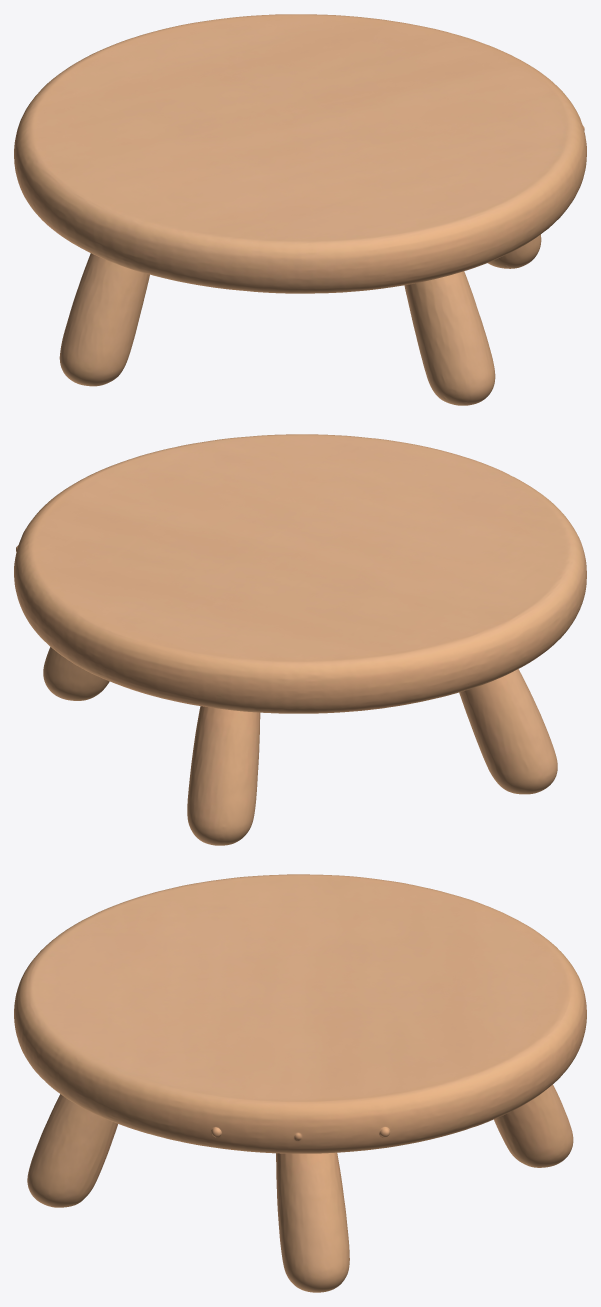
The model's file is SmallTable.fbx.
3 views of the same model, one above another, from view 1: azimuth 30°, elevation 25°; view 2: azimuth 150°, elevation 25°; view 3: azimuth 270°, elevation 25° (orthographic).
Parts seen in each view (by area): view 1: round wooden table 3d model; view 2: round wooden table 3d model; view 3: round wooden table 3d model.
Part boxes in pixels (x1,y1,x2,y2): round wooden table 3d model: (14, 14, 586, 405); round wooden table 3d model: (14, 434, 586, 845); round wooden table 3d model: (14, 874, 586, 1292).
Size of the model in its own units: 1 by 0.3728 by 0.997.
Materials: 1 (1 with a texture image).
